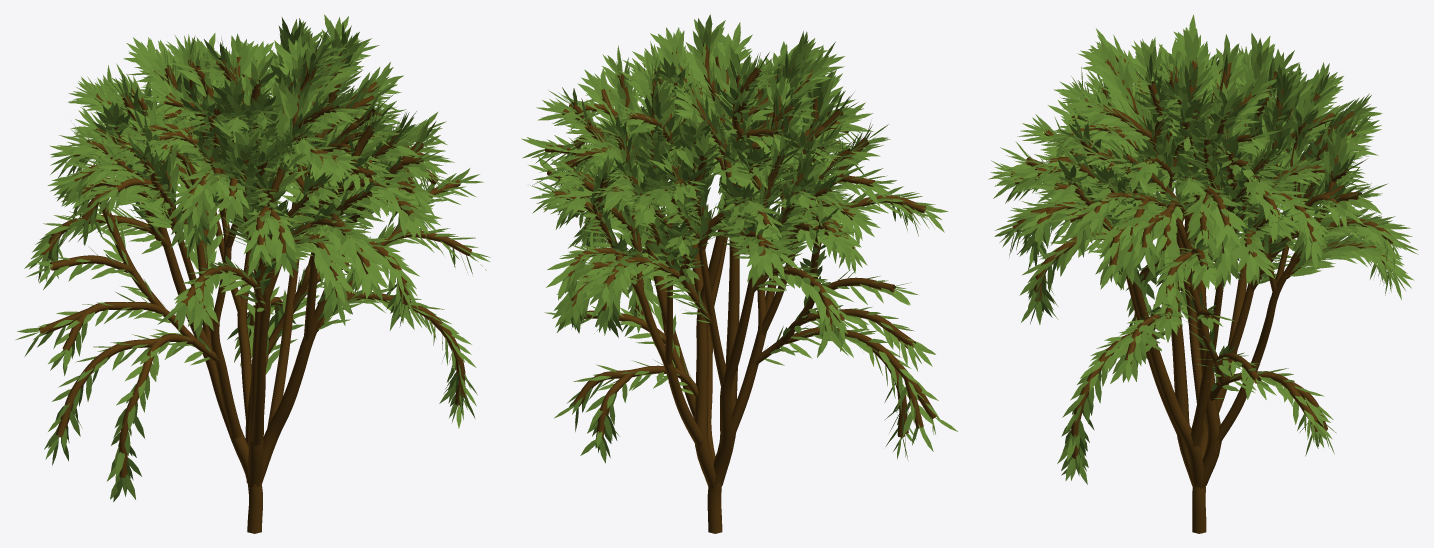
File: tree2.fbx
3 renders of one model, left to right at view 1: azimuth 30°, elevation 25°; view 2: azimuth 150°, elevation 25°; view 3: azimuth 270°, elevation 25°, orthographic. The views are drawn at different scales.
Parts seen in each view (by area): view 1: leaves, tree; view 2: leaves, tree; view 3: leaves, tree.
Boxes of the visible parts, x1,y1,x2,y2 form: leaves: (15,14,490,501); tree: (39,43,471,533); leaves: (521,14,957,463); tree: (545,42,936,533); leaves: (988,14,1418,484); tree: (1011,55,1393,533).
Size of the model in its own units: 613 by 675 by 537.
